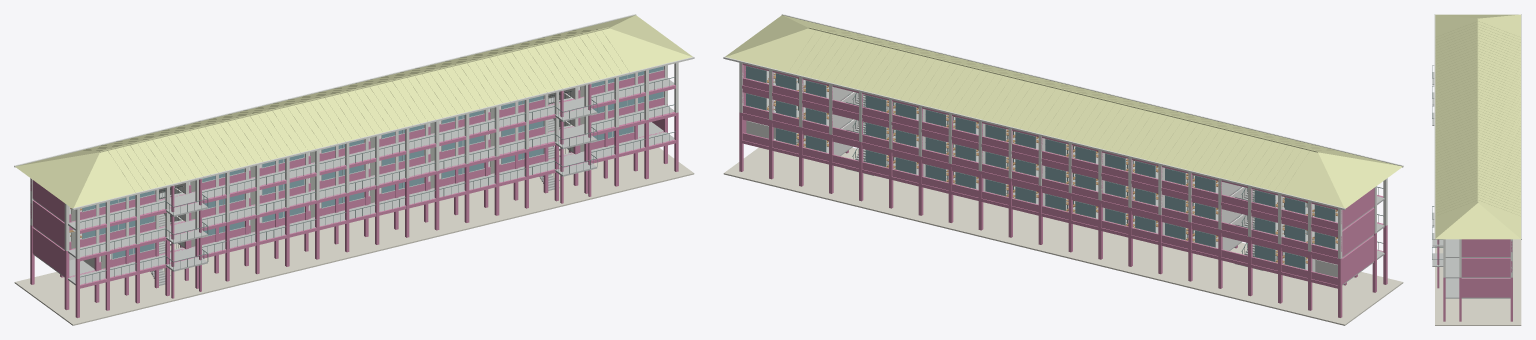
File: building-3.glb
3 views of the same model, side by side, from view 1: azimuth 30°, elevation 25°; view 2: azimuth 150°, elevation 25°; view 3: azimuth 270°, elevation 25° (orthographic). The views are drawn at different scales.
Parts seen in each view (by area): view 1: B3_ROOF_roof, B3_FLOOR_1_tile, B3_FLOOR_1_pink, B3_FLOOR_2_pink, B3_FLOOR_2_slab, B3_FLOOR_3_slab, B3_FLOOR_4_slab, B3_FLOOR_3_white, B3_FLOOR_3_pink, B3_FLOOR_4_white, B3_FLOOR_3_FRONT_pink, B3_FLOOR_4_FRONT_pink (+13 smaller); view 2: B3_ROOF_roof, B3_FLOOR_1_tile, B3_FLOOR_2_pink, B3_FLOOR_3_pink, B3_FLOOR_4_pink, B3_FLOOR_1_pink, B3_FLOOR_3_glass, B3_FLOOR_4_glass, B3_FLOOR_2_glass, B3_FLOOR_3_white, B3_ROOF_white, B3_FLOOR_4_white (+10 smaller); view 3: B3_ROOF_roof, B3_FLOOR_1_tile, B3_FLOOR_2_pink, B3_FLOOR_3_pink, B3_FLOOR_4_pink, B3_ROOF_white, B3_FLOOR_2_slab, B3_FLOOR_3_slab, B3_FLOOR_4_slab, B3_FLOOR_1_pink, B3_FLOOR_3_white, B3_FLOOR_4_white.
Boxes of the visible parts, x1,y1,x2,y2 form: B3_ROOF_roof: (15,15,692,208); B3_FLOOR_1_tile: (14,147,694,325); B3_FLOOR_1_pink: (30,131,678,317); B3_FLOOR_2_pink: (30,104,678,286); B3_FLOOR_2_slab: (33,122,674,285); B3_FLOOR_3_slab: (33,95,674,257); B3_FLOOR_4_slab: (33,77,674,230); B3_FLOOR_3_white: (30,77,678,258); B3_FLOOR_3_pink: (30,77,675,248); B3_FLOOR_4_white: (30,62,678,231); B3_FLOOR_3_FRONT_pink: (69,97,664,249); B3_FLOOR_4_FRONT_pink: (69,69,664,222); B3_ROOF_roof: (725,15,1402,208); B3_FLOOR_1_tile: (723,147,1403,325); B3_FLOOR_2_pink: (739,112,1387,286); B3_FLOOR_3_pink: (742,85,1383,257); B3_FLOOR_4_pink: (742,63,1374,230); B3_FLOOR_1_pink: (739,140,1387,317); B3_FLOOR_3_glass: (746,93,1334,248); B3_FLOOR_4_glass: (746,66,1334,221); B3_FLOOR_2_glass: (776,128,1305,268); B3_FLOOR_3_white: (739,85,1387,258); B3_ROOF_white: (723,14,1403,210); B3_FLOOR_4_white: (739,62,1387,231); B3_ROOF_roof: (1435,14,1520,239); B3_FLOOR_1_tile: (1435,239,1521,325); B3_FLOOR_2_pink: (1437,246,1512,297); B3_FLOOR_3_pink: (1437,239,1512,277); B3_FLOOR_4_pink: (1461,239,1512,256); B3_ROOF_white: (1434,14,1521,239); B3_FLOOR_2_slab: (1432,112,1510,298); B3_FLOOR_3_slab: (1432,92,1510,278); B3_FLOOR_4_slab: (1432,72,1510,257); B3_FLOOR_1_pink: (1437,267,1512,321); B3_FLOOR_3_white: (1443,257,1512,277); B3_FLOOR_4_white: (1443,239,1512,257).
Bounding box in the file's own units: 83 × 17.8 × 14.01.
